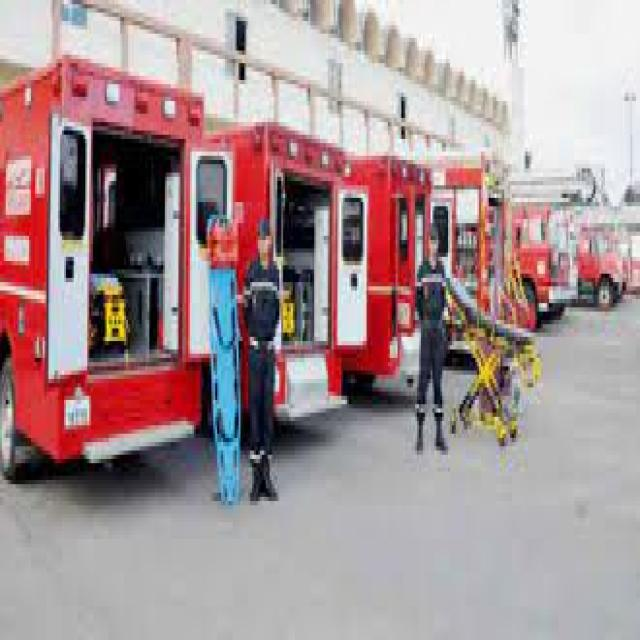ambulance: (3, 55, 209, 479)
